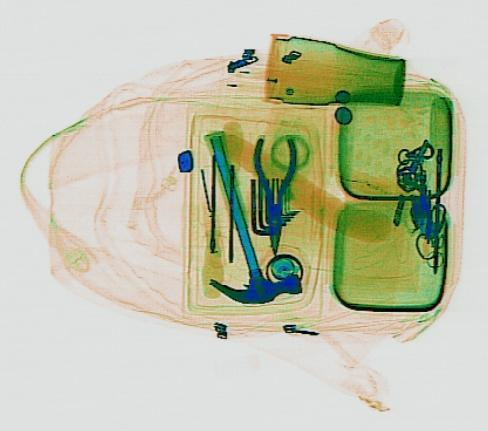Pliers: (253, 137, 295, 253)
